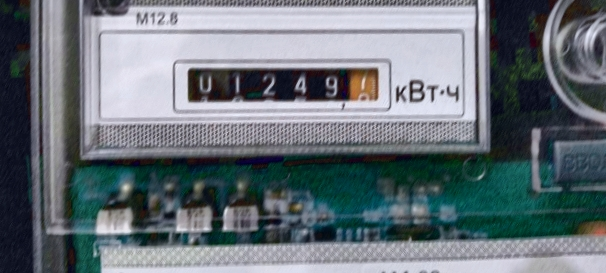0: (196, 67, 215, 95)
1: (228, 68, 244, 95)
2: (258, 71, 277, 98)
4: (291, 69, 309, 95)
7: (355, 65, 372, 92)
9: (320, 71, 340, 99)
screen: (168, 40, 397, 132)
